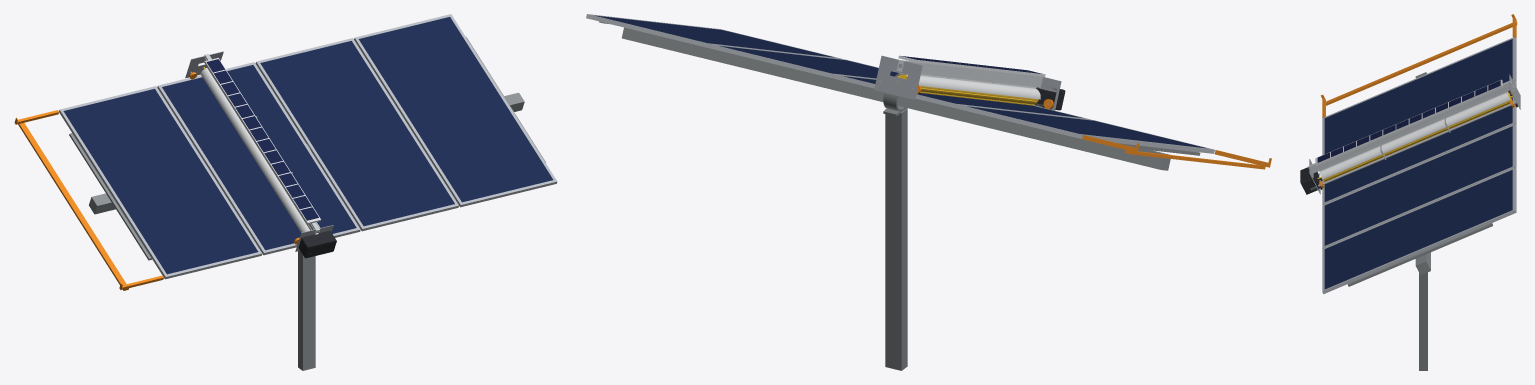
File: SWEEP-1_on_row.glb
3 renders of one model, left to right at view 1: azimuth 30°, elevation 25°; view 2: azimuth 150°, elevation 25°; view 3: azimuth 270°, elevation 25°, orthographic. The views are drawn at different scales.
Parts seen in each view (by area): view 1: module_glass, module_frames, pv_cells, pier, brush_hood, dock, tracker, pv_strip, drive_truck; view 2: module_glass, tracker, pier, module_frames, brush_hood, spine, end_plate_high, dock, brush; view 3: module_glass, module_frames, brush_hood, spine, dock, pv_cells, tracker, pier, pv_strip, brush, line_shaft, drive_truck.
Part boxes in pixels (bbox=[...]): module_glass: bbox=[63, 17, 552, 274]; module_frames: bbox=[59, 14, 557, 279]; pv_cells: bbox=[206, 59, 318, 220]; pier: bbox=[298, 143, 315, 370]; brush_hood: bbox=[200, 67, 310, 232]; dock: bbox=[14, 110, 163, 290]; tracker: bbox=[69, 37, 545, 260]; pv_strip: bbox=[204, 58, 320, 224]; drive_truck: bbox=[298, 230, 336, 258]; module_glass: bbox=[595, 15, 1206, 148]; tracker: bbox=[599, 21, 1200, 170]; pier: bbox=[883, 92, 907, 370]; module_frames: bbox=[586, 14, 1214, 153]; brush_hood: bbox=[895, 73, 1040, 99]; spine: bbox=[896, 60, 1042, 87]; end_plate_high: bbox=[874, 55, 922, 99]; dock: bbox=[1082, 135, 1271, 169]; brush: bbox=[896, 74, 1038, 105]; module_glass: bbox=[1324, 39, 1512, 289]; module_frames: bbox=[1322, 37, 1516, 294]; brush_hood: bbox=[1319, 91, 1510, 179]; spine: bbox=[1308, 80, 1514, 173]; dock: bbox=[1320, 14, 1517, 117]; pv_cells: bbox=[1317, 80, 1500, 162]; tracker: bbox=[1347, 72, 1492, 286]; pier: bbox=[1419, 272, 1427, 370]; pv_strip: bbox=[1315, 79, 1502, 165]; brush: bbox=[1317, 92, 1513, 181]; line_shaft: bbox=[1318, 91, 1517, 186]; drive_truck: bbox=[1300, 167, 1319, 194].
Bounding box in the file's own units: 5336 × 3259 × 2464.
